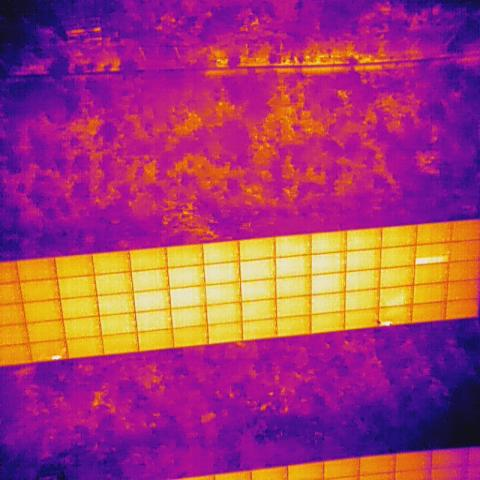fault: (414, 256, 451, 263), (380, 320, 396, 327), (50, 354, 62, 360)
